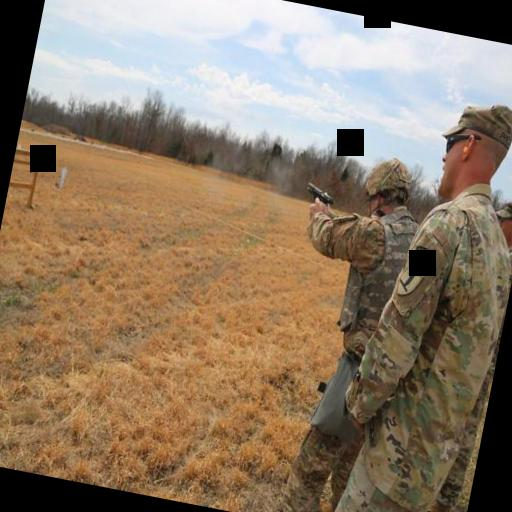Handgun: (301, 174, 338, 211)
